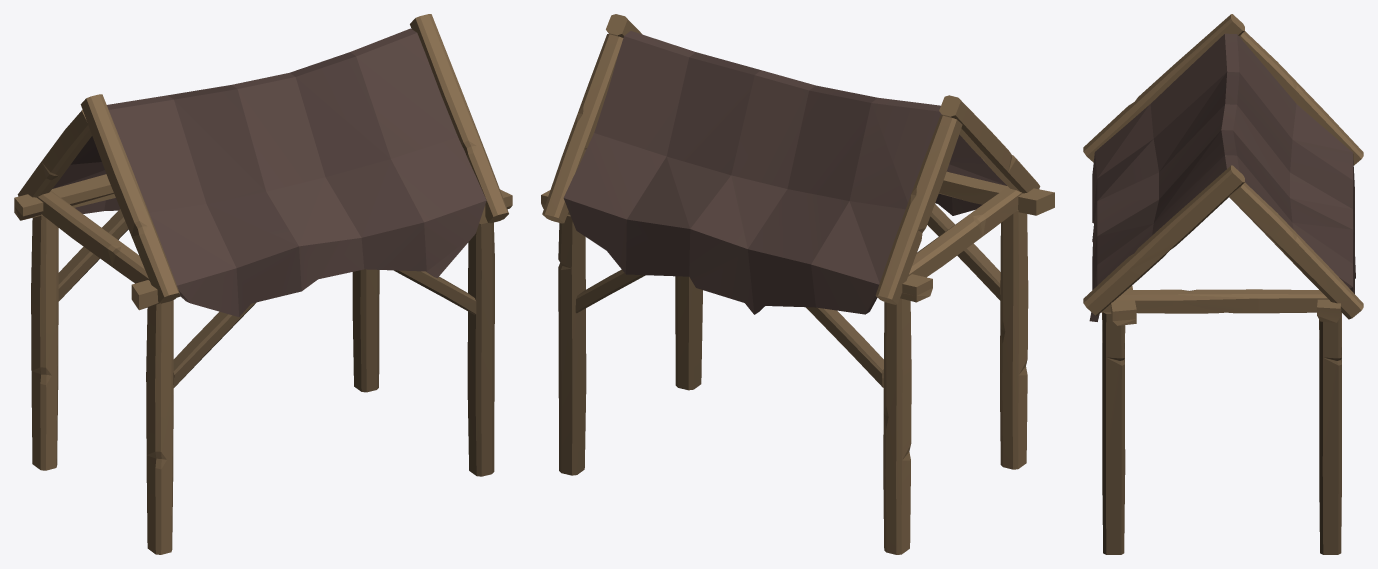
The model's file is Techo_04.glb.
The picture shows the model from 3 angles, left to right: view 1: azimuth 30°, elevation 25°; view 2: azimuth 150°, elevation 25°; view 3: azimuth 270°, elevation 25°; orthographic projection. The views are drawn at different scales.
Parts seen in each view (by area): view 1: SM_Bld_Stall_Cover_01; view 2: SM_Bld_Stall_Cover_01; view 3: SM_Bld_Stall_Cover_01.
Boxes of the visible parts, x1,y1,x2,y2 form: SM_Bld_Stall_Cover_01: (14, 14, 512, 554); SM_Bld_Stall_Cover_01: (541, 14, 1054, 554); SM_Bld_Stall_Cover_01: (1083, 14, 1363, 554).
Size of the model in its own units: 3.4 by 3.48 by 2.29.
1 material, 1 textured.
